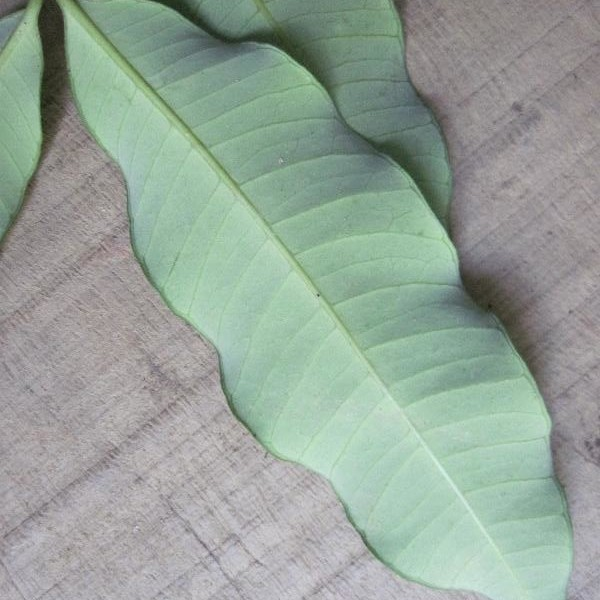obstacle: (64, 9, 575, 591)
